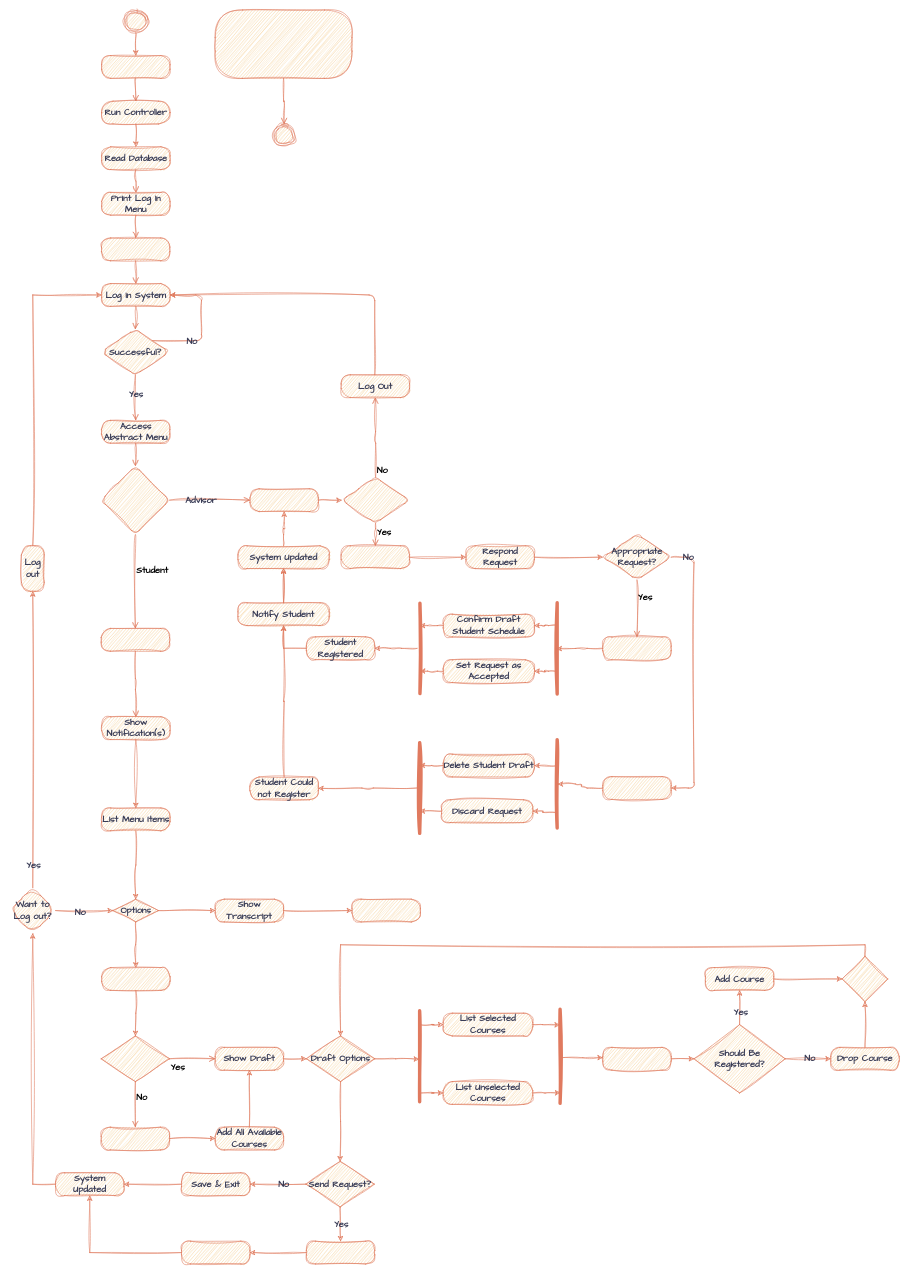
The diagram is 909 pixels wide and 1274 high, and some of its shapes have lost their labels. Each missing label, with the centre of its shape:
Approve: [636,648]
Choose User Type: [135,249]
Create Draft: [135,1138]
Dispatch Request: [340,1252]
Display Advisor Menu: [283,500]
Display Student Menu: [135,639]
Draft Exist?: [135,1058]
Examine Requests?: [375,500]
Input '0' (Zero) Saves All Changes, Terminates the Program and Exits Totally: [283,43]
Notify Advisor: [215,1252]
Print Details: [385,910]
Register Courses: [135,978]
Reject: [636,787]
Run main(): [135,66]
Select Course: [636,1058]
Show Request(s): [375,557]
User Type: [135,499]
